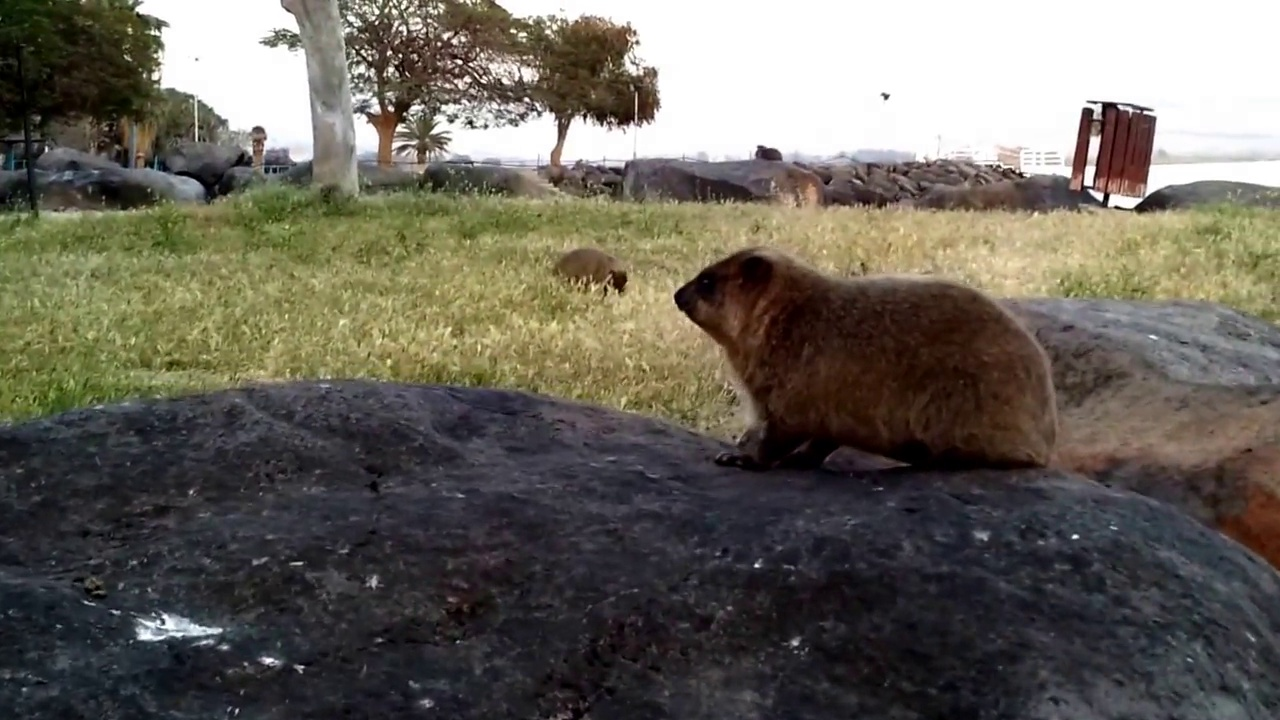Rock Hyrex: (671, 245, 1056, 482), (551, 246, 630, 302), (754, 145, 786, 163)
